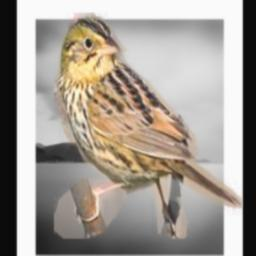Sparrow: (55, 13, 243, 239)
